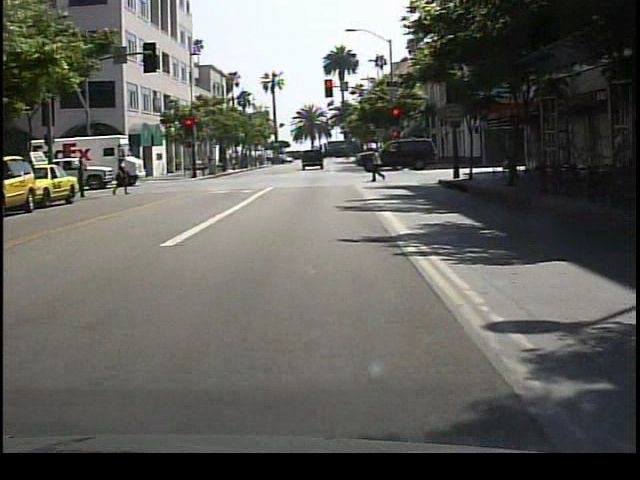person: (499, 138, 525, 187), (72, 153, 92, 201), (368, 147, 390, 182), (113, 157, 131, 198)
